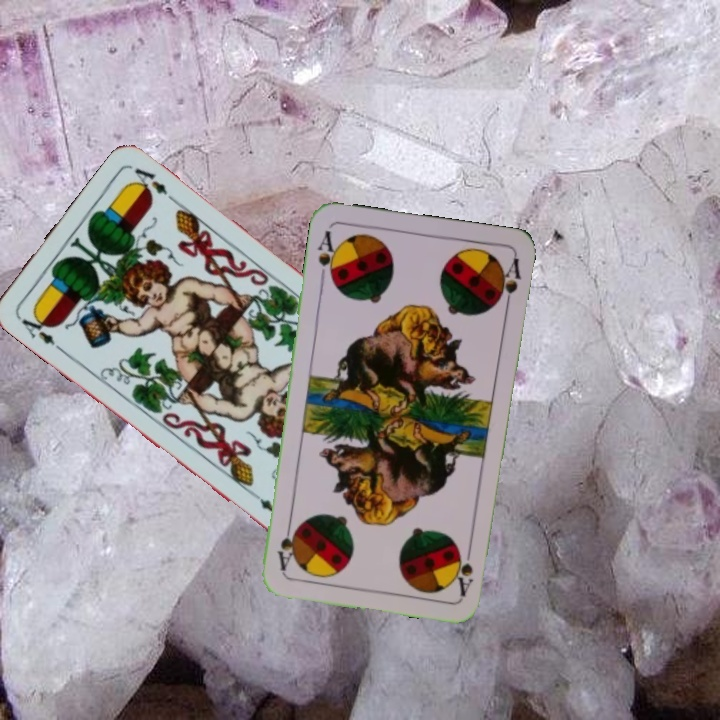EA: (14, 308, 58, 348)
SA: (314, 226, 341, 286), (451, 540, 476, 599)
